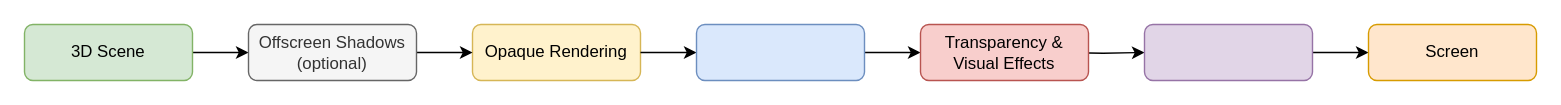
Image size: 1561x105. Some labels were removed from this diagram. Here are the shapes that lost their labels. From the top down, the centre of each, then its label:
point 779,51: Sky Rendering (optional)
point 1227,51: Post Processing
